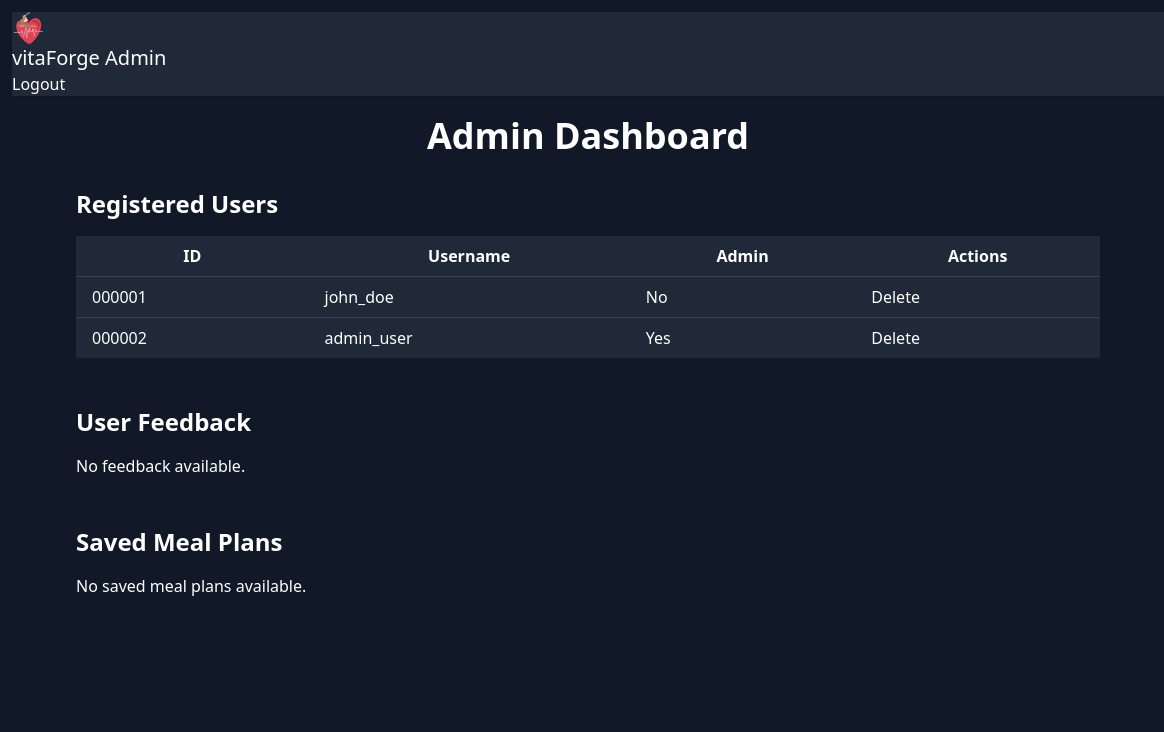
AdminDashboard Component › deletes a non-admin user via the modal and shows success banner
This screenshot has width=1164, height=732.
Check: the text "john_doe" is shown, box 308,276 -> 630,318
Click the active "Delete" button (john_doe)
Click the button "Delete" in the row of "000001" at (896, 297), box 871,285 -> 920,309
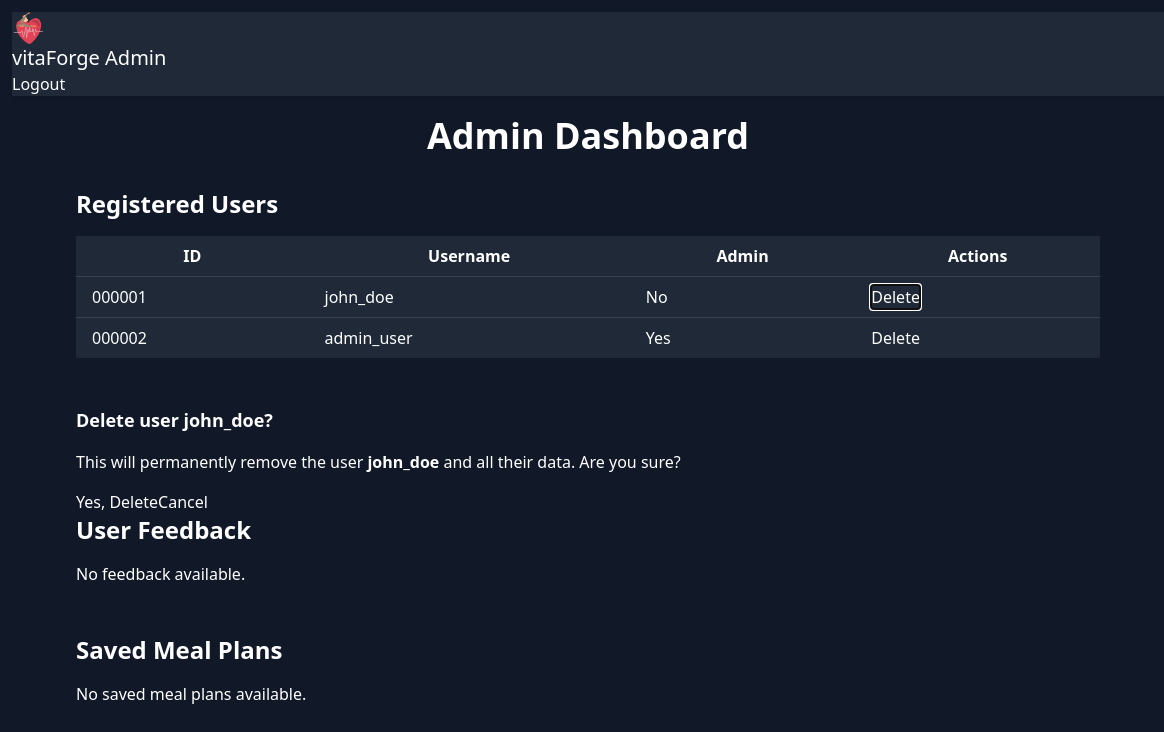
Check: the heading "Delete user john_doe?" is shown, box 76,408 -> 273,432
Confirm deletion in the modal
Click the button "Yes, Delete" at (117, 502), box 76,490 -> 158,514
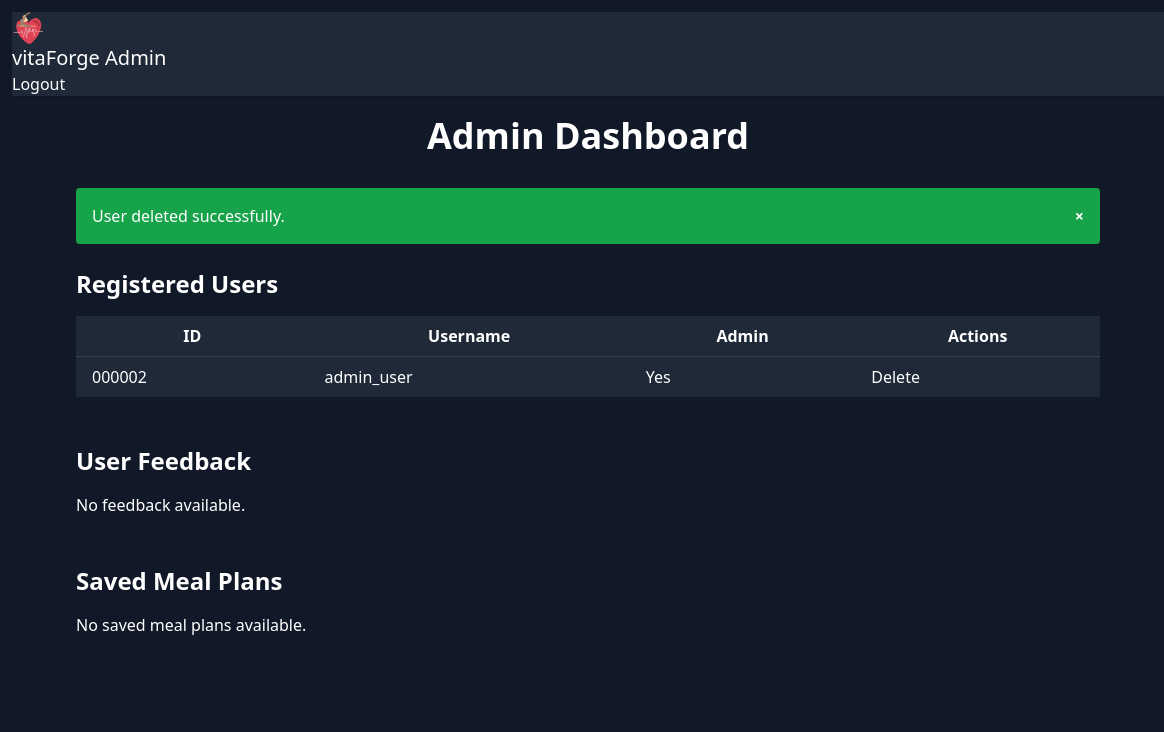
Check: the text "User deleted successfully." is shown, box 92,204 -> 285,228
Check: the text "john_doe" is gone
